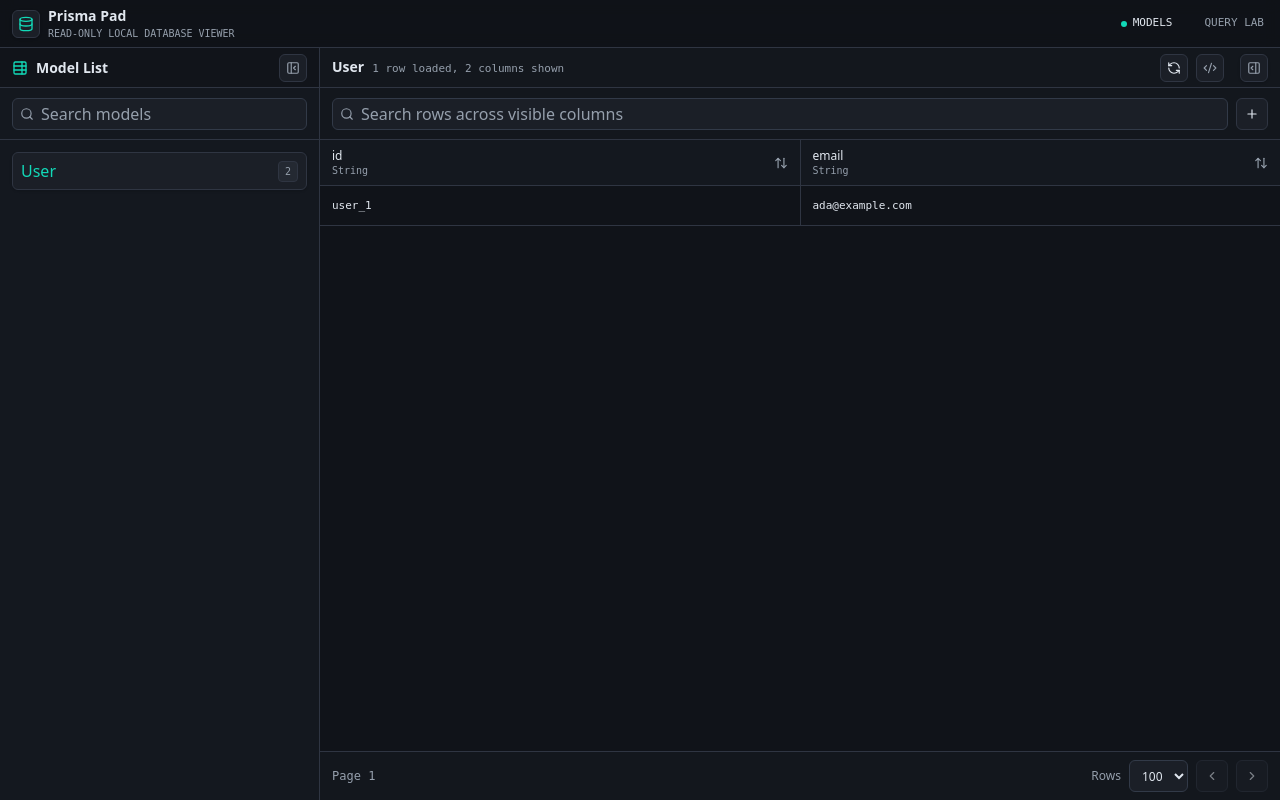
App row table › refreshes the selected model rows without exposing mutation controls
Expected: the text "ada@example.com" is shown, [812,199,912,212]
Click the button named "Refresh User rows".
click(1174, 68)  # box [1160,54,1188,82]
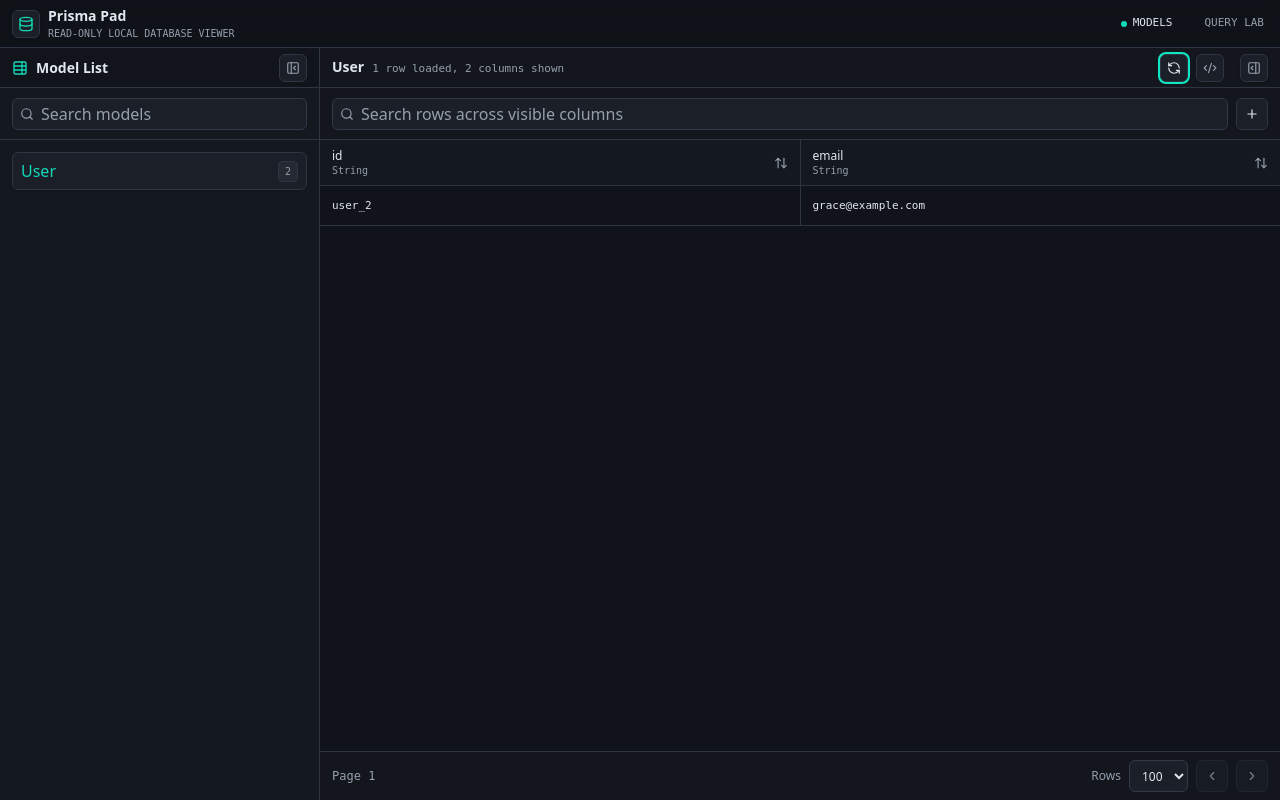
Expected: the text "grace@example.com" is shown, [812,199,925,212]
Expected: the text "ada@example.com" is gone
